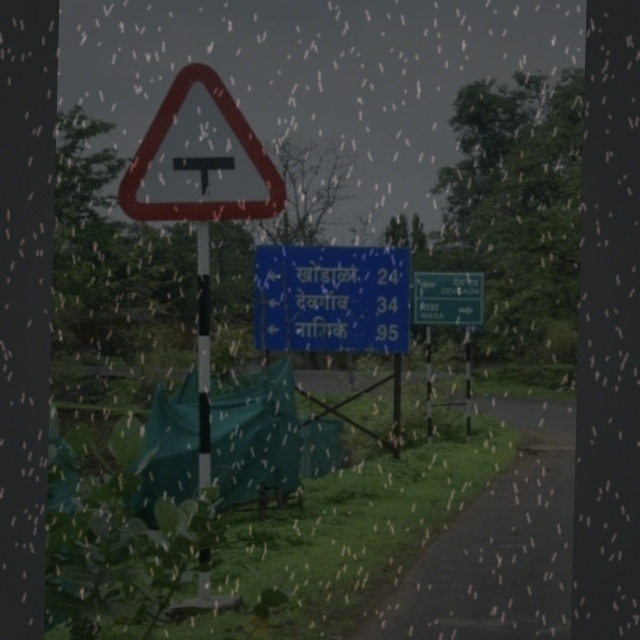T_Intersection: (117, 66, 294, 220)
